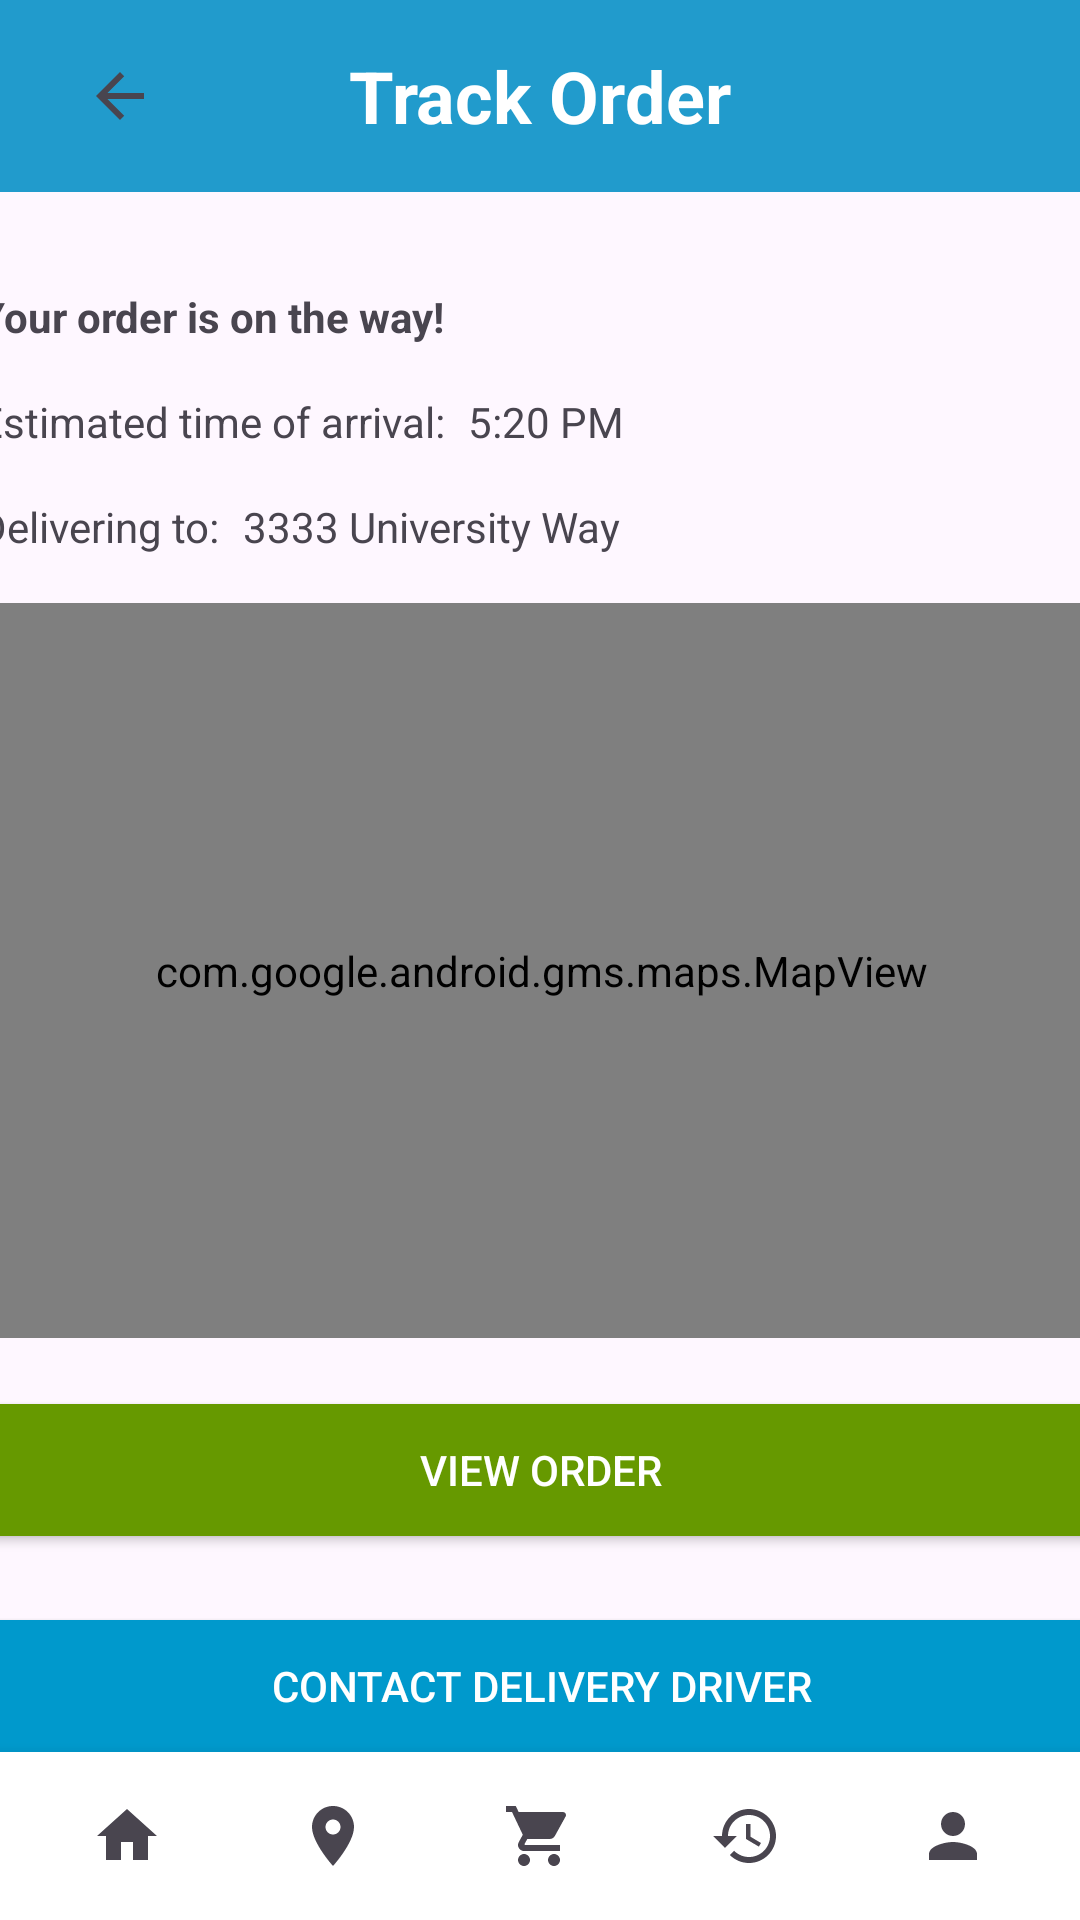

Named icons in this screenshot (1080*1920) and their bounding boxes, rect(x1, y1, x2, y2):
Back: rect(96, 72, 144, 120)
Home: rect(97, 1809, 157, 1860)
Order History: rect(713, 1809, 776, 1863)
Shopping Cart: rect(506, 1806, 566, 1866)
Track Orders: rect(312, 1806, 354, 1866)
